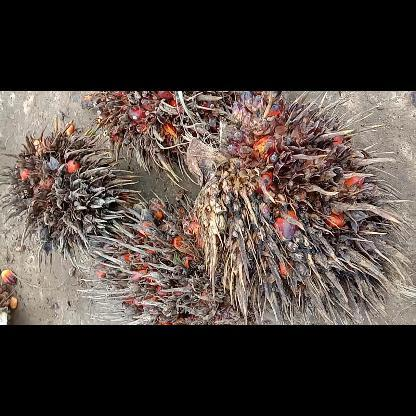Terlalu masak: (178, 90, 414, 324), (75, 188, 260, 324), (0, 119, 145, 271), (77, 90, 285, 186)
